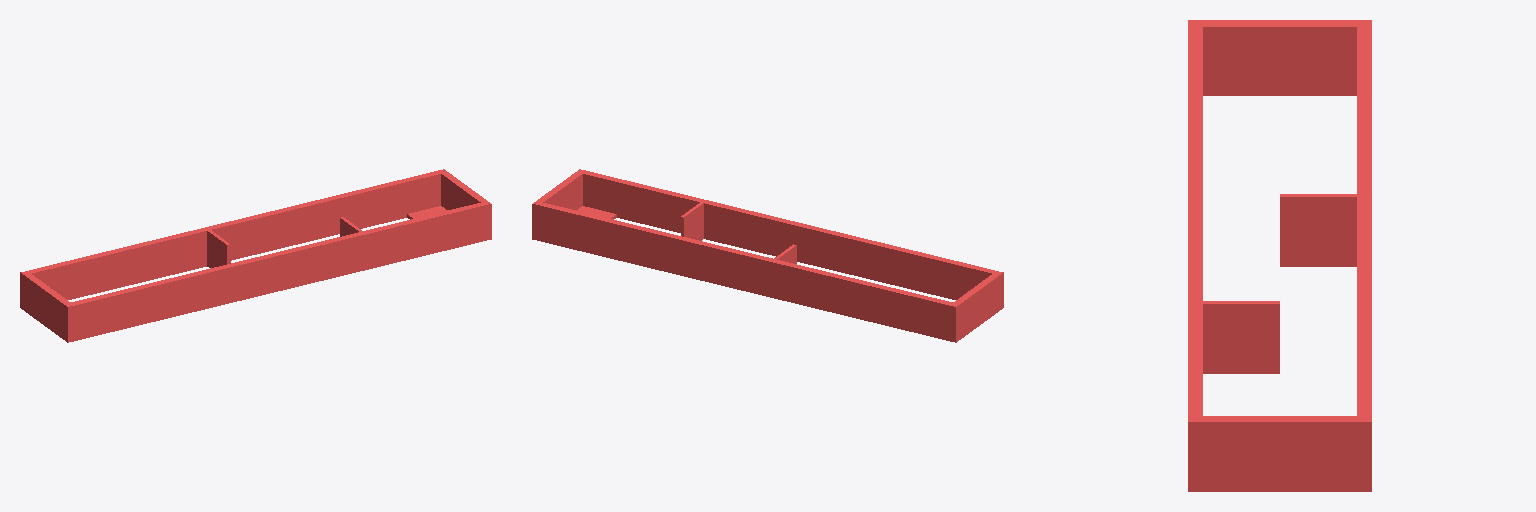
robot.urdf — long_room_2_half_wall.urdf:
<?xml version="1.0" ?>
<robot name="long_room_2_half_wall.urdf">
  <link concave="yes" name="baseLink">
    <inertial>
      <origin rpy="0 0 0" xyz="0.0 0.0 0.0"/>
       <mass value=".0"/>
       <inertia ixx="0" ixy="0" ixz="0" iyy="0" iyz="0" izz="0"/>
    </inertial>

    <visual>
      <origin rpy="1.57075 0 0" xyz="0 0 0"/>
      <geometry>
        <mesh filename="long_room_2_half_wall.obj" scale="1 1 1"/>
      </geometry>
       <material name="red">
        <color rgba="1 0.4 0.4 1"/>
      </material>
    </visual>

    <collision concave="yes">
      <origin rpy="1.57075 0 0" xyz="0 0 0"/>
      <geometry>
	 	    <mesh filename="long_room_2_half_wall.obj" scale="1 1 1"/>
      </geometry>
    </collision>
  </link>
</robot>

--- What the picture shows (computed from the rendered views, not written in the file) ---
The picture shows the robot from 3 angles, left to right: view 1: azimuth 30°, elevation 25°; view 2: azimuth 150°, elevation 25°; view 3: azimuth 270°, elevation 25°; orthographic projection.
Model long_room_2_half_wall.urdf with 1 links and 0 joints (none), rooted at baseLink, posed all joints at 0.
Visible links, largest first — view 1: baseLink; view 2: baseLink; view 3: baseLink.
Boxes of the visible links, x1,y1,x2,y2 form: baseLink: (20,169,491,342); baseLink: (532,169,1003,342); baseLink: (1188,20,1371,491).
Bounding box of the posed robot: 12.4 × 2.4 × 1 m (x, y, z).
Meshes: 1 distinct files referenced, 1 mesh visuals loaded (1 OBJ).